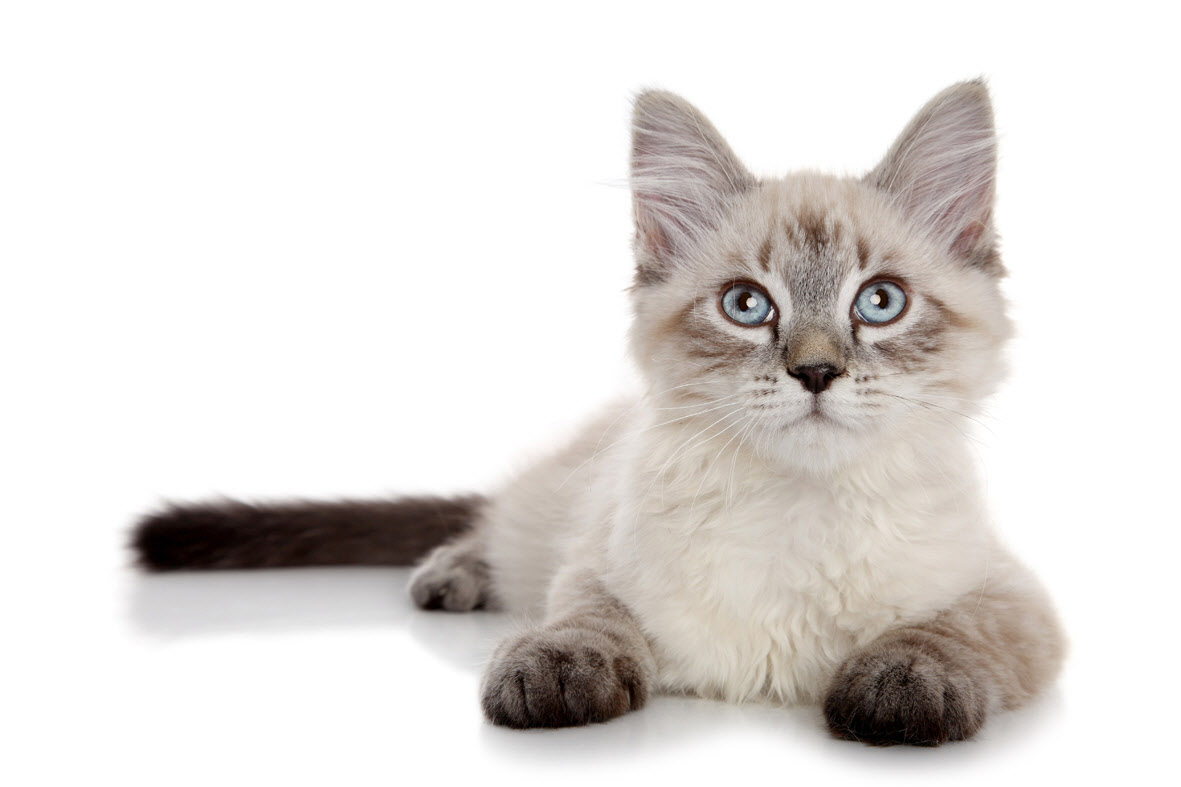cat: (107, 57, 1114, 759)
cat-face: (603, 50, 1026, 482)
